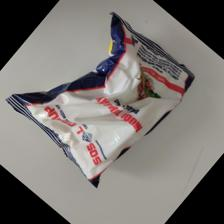Salt: (3, 12, 197, 192)
